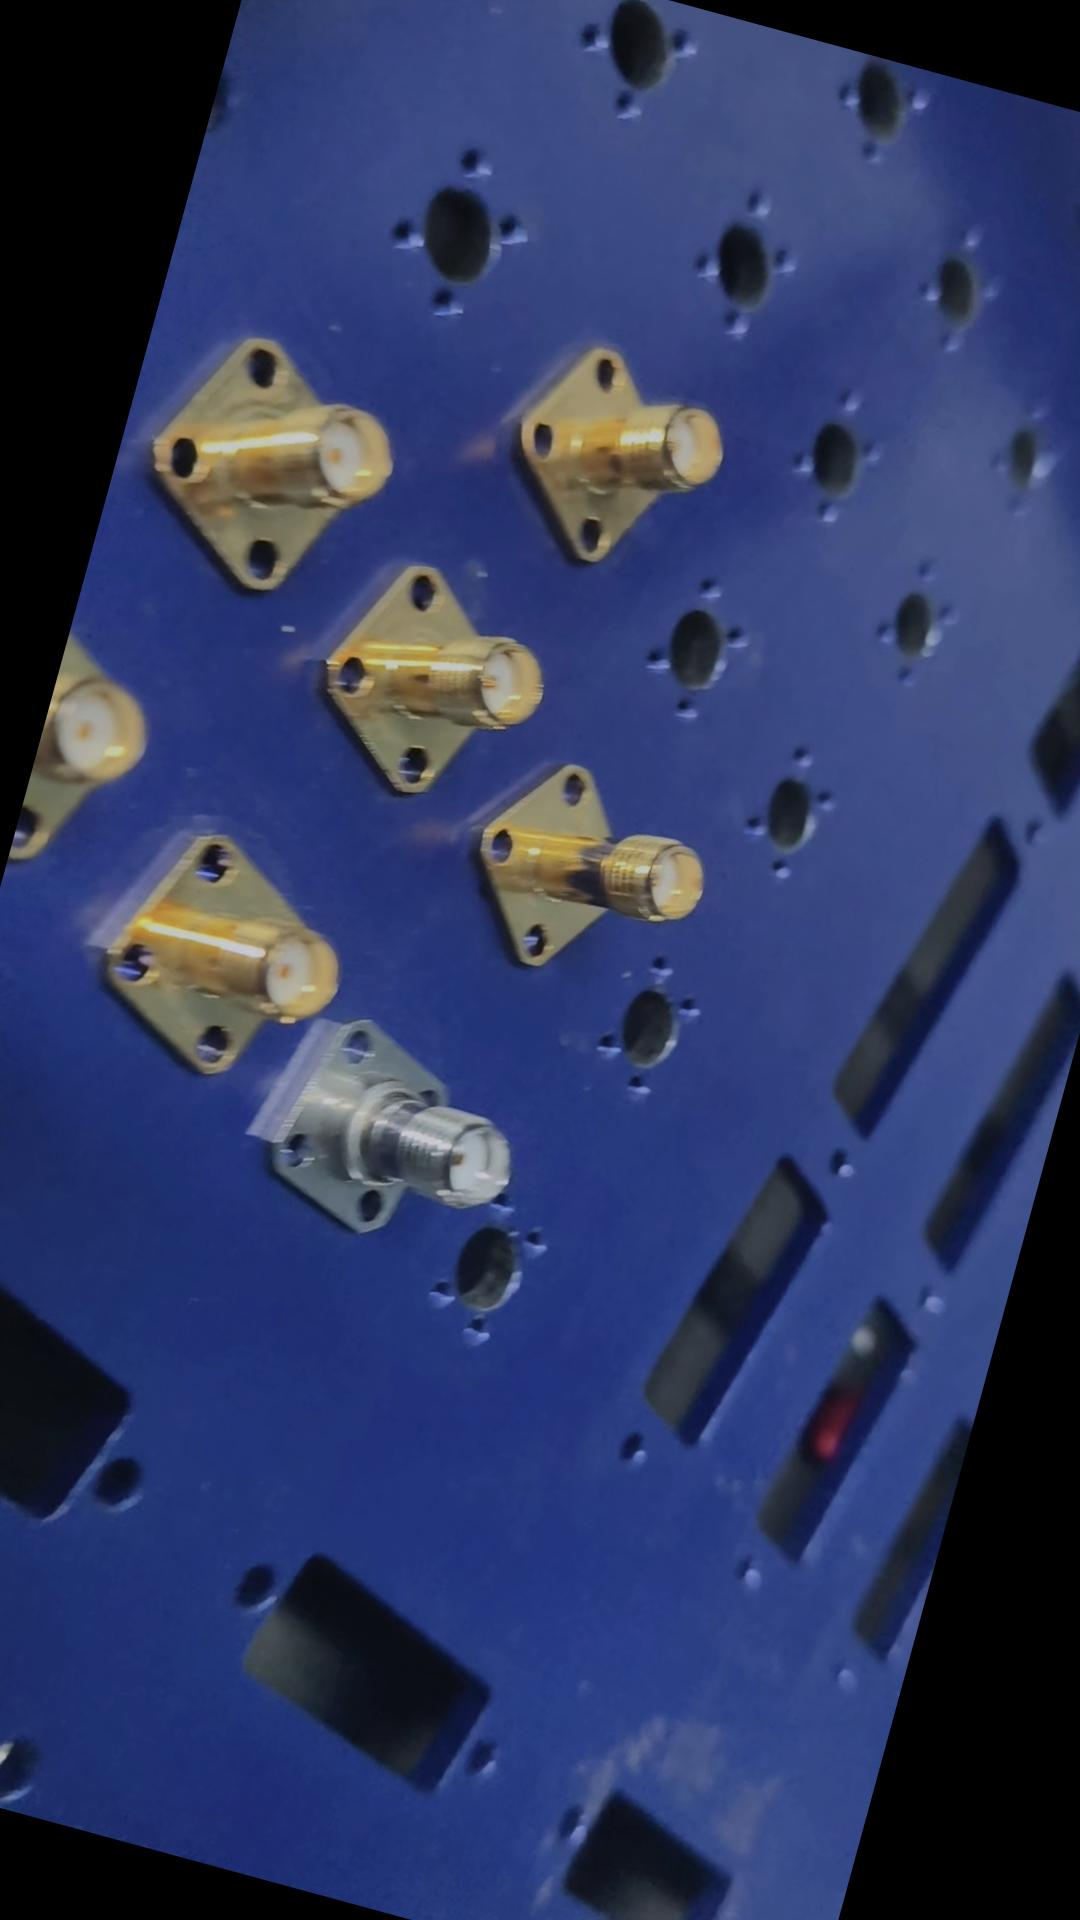SMA: (127, 314, 429, 622), (240, 975, 549, 1269), (86, 811, 378, 1121), (454, 711, 733, 1009), (487, 307, 753, 593), (302, 545, 570, 825)
